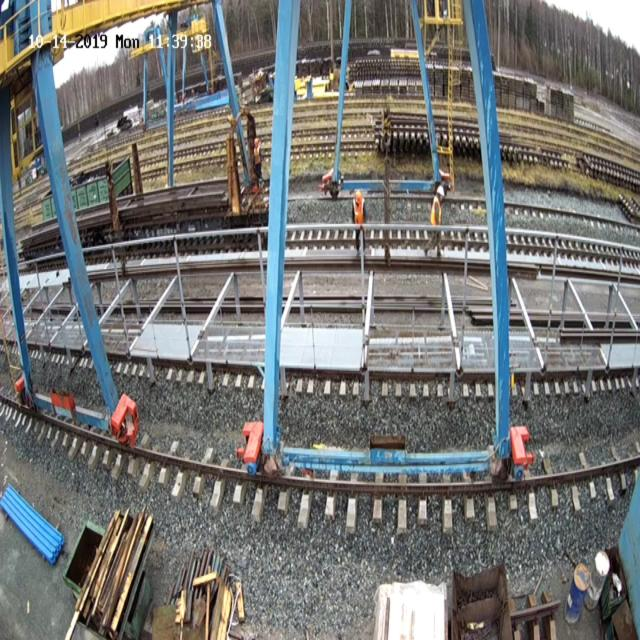Helmet: (436, 186, 444, 196), (356, 190, 362, 203), (253, 138, 259, 148)
Person: (424, 184, 445, 257), (352, 190, 366, 256), (252, 137, 264, 193)
